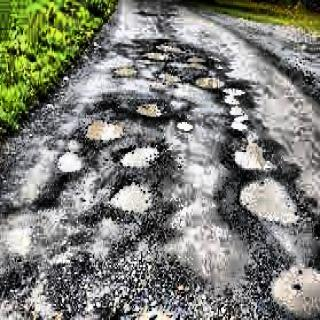pothole: (222, 80, 275, 169), (236, 170, 299, 229), (269, 259, 320, 320), (109, 178, 156, 217), (117, 138, 161, 171), (80, 114, 125, 143), (136, 93, 166, 122), (55, 147, 85, 175), (190, 72, 226, 94), (109, 61, 140, 84), (154, 64, 184, 86), (142, 46, 174, 65), (156, 36, 186, 54), (182, 51, 208, 68), (174, 118, 196, 138)
